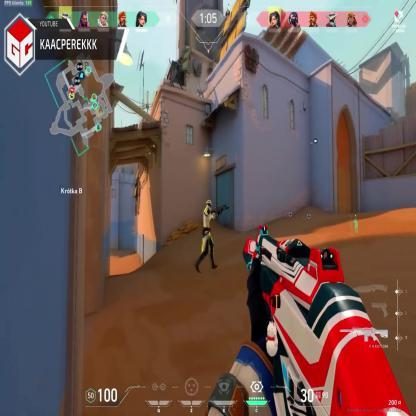enemy: (196, 197, 216, 272)
enemy_head: (206, 199, 212, 209)
